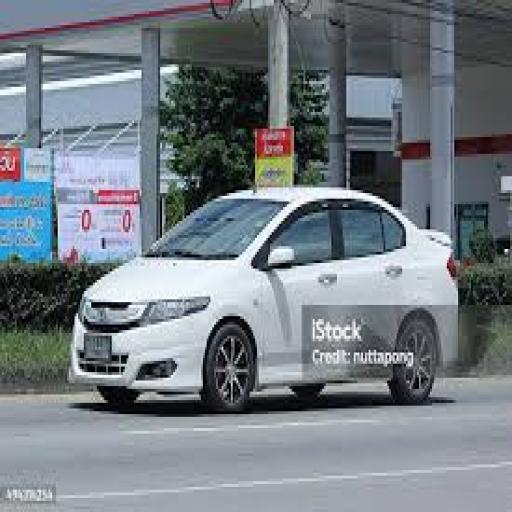License: (78, 326, 116, 362)
